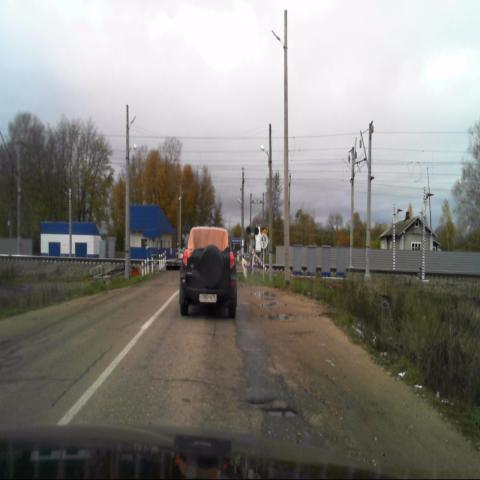3_13: (260, 233, 268, 249)
